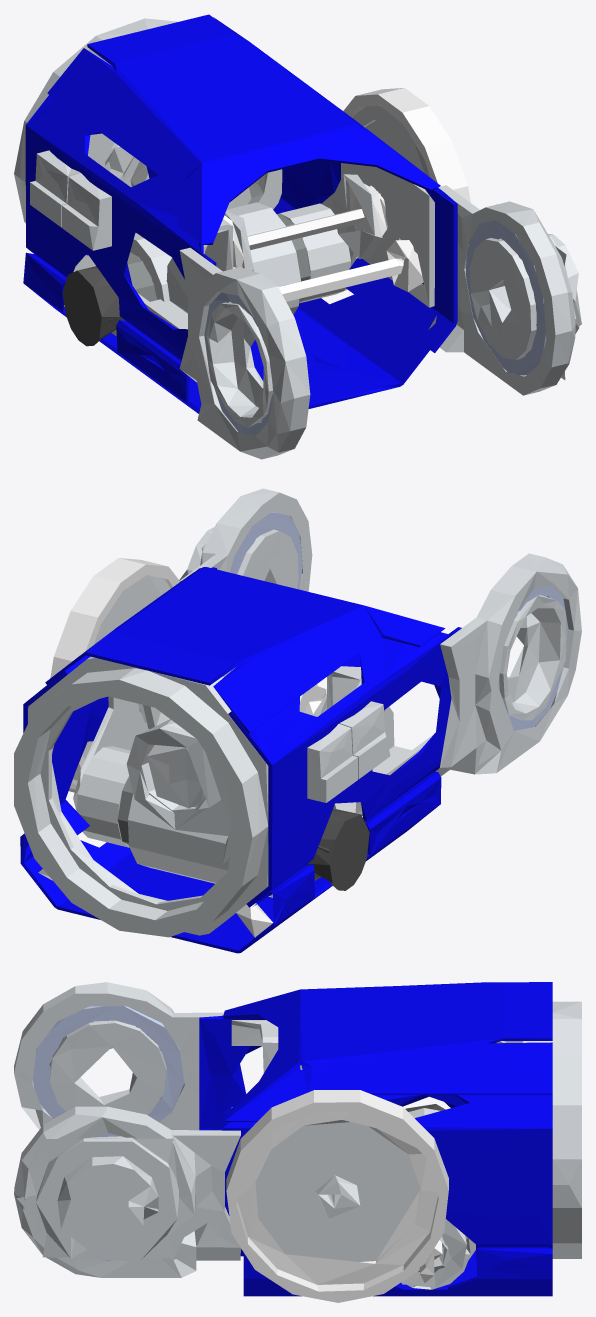
File: RARM_LINK1_mesh.dae
The picture shows the model from 3 angles, top to bottom: view 1: azimuth 30°, elevation 25°; view 2: azimuth 150°, elevation 25°; view 3: azimuth 270°, elevation 25°; orthographic projection. The views are drawn at different scales.
Parts seen in each view (by area): view 1: RARM_LINK1 (×20); view 2: RARM_LINK1 (×18); view 3: RARM_LINK1 (×11).
Boxes of the visible parts, x1=… form: RARM_LINK1 (×20): x1=14, y1=14, x2=581, y2=459; RARM_LINK1 (×18): x1=14, y1=488, x2=581, y2=953; RARM_LINK1 (×11): x1=14, y1=982, x2=581, y2=1302.
Size of the model in its own units: 0.1241 by 0.092 by 0.193.
